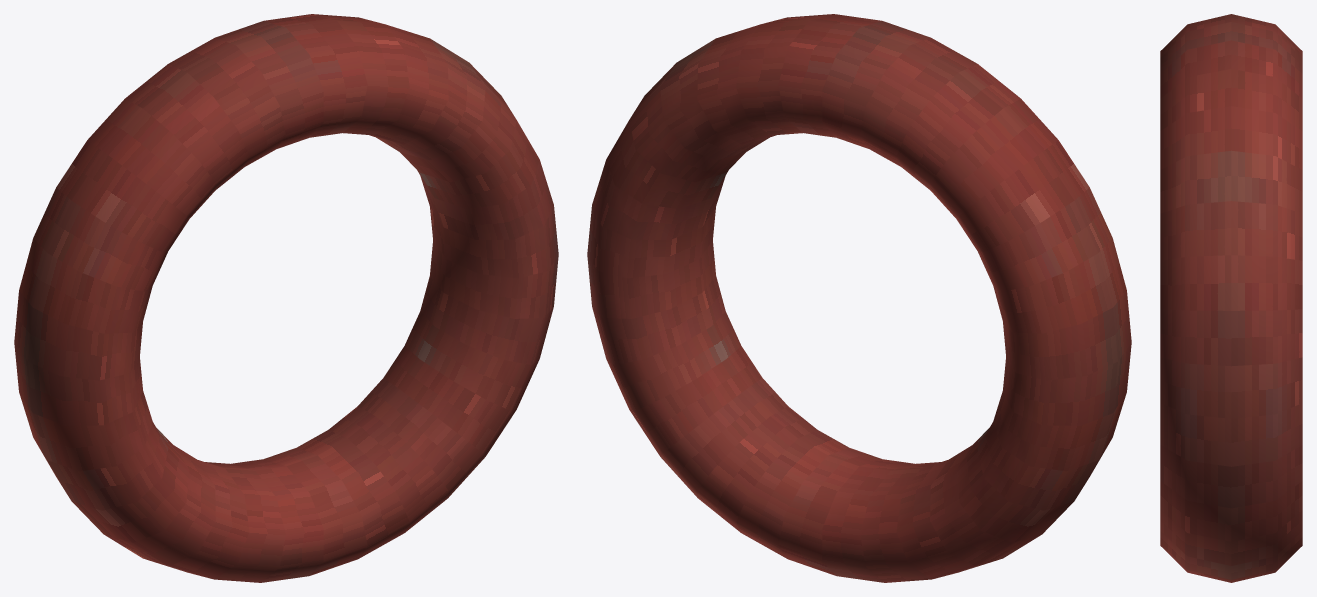
The model's file is valve-wheel.glb.
The picture shows the model from 3 angles, left to right: view 1: azimuth 30°, elevation 25°; view 2: azimuth 150°, elevation 25°; view 3: azimuth 270°, elevation 25°; orthographic projection. The views are drawn at different scales.
Visible parts, largest first — view 1: loop; view 2: loop; view 3: loop.
Boxes of the visible parts, left/top/right/bottom form: loop: left=14, top=14, right=558, bottom=582; loop: left=587, top=14, right=1131, bottom=582; loop: left=1160, top=14, right=1302, bottom=582.
Size of the model in its own units: 0.18 by 0.18 by 0.045.
1 material, 1 textured.
